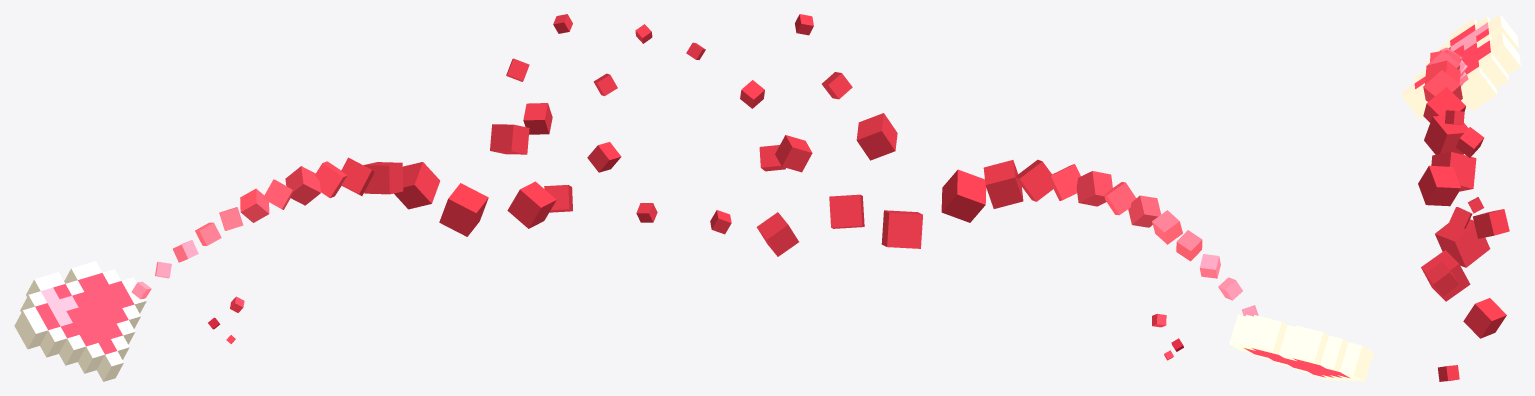
The model's file is fx_bloodletting.glb.
3 renders of one model, left to right at view 1: azimuth 30°, elevation 25°; view 2: azimuth 150°, elevation 25°; view 3: azimuth 270°, elevation 25°, orthographic. The views are drawn at different scales.
Parts seen in each view (by area): view 1: stream, heart_rim, heart_body, burst_cube_01, burst_cube_02, burst_cube_04, heart_highlight, burst_cube_05, burst_cube_03; view 2: stream, heart_rim, burst_cube_02, burst_cube_01, burst_cube_03, burst_cube_04, heart_body; view 3: stream, heart_rim, burst_cube_02, burst_cube_03, heart_body, burst_cube_01, burst_cube_04, burst_cube_05, burst_cube_06, heart_highlight, burst_cube_07, burst_cube_08 (+2 smaller).
Boxes of the visible parts, x1=… form: stream: x1=131, y1=157, x2=488, y2=299; heart_rim: x1=14, y1=261, x2=146, y2=381; heart_body: x1=35, y1=273, x2=134, y2=354; burst_cube_01: x1=507, y1=181, x2=556, y2=228; burst_cube_02: x1=490, y1=124, x2=529, y2=154; burst_cube_04: x1=523, y1=103, x2=552, y2=134; heart_highlight: x1=41, y1=287, x2=78, y2=326; burst_cube_05: x1=587, y1=142, x2=621, y2=172; burst_cube_03: x1=544, y1=185, x2=572, y2=212; stream: x1=881, y1=159, x2=1258, y2=316; heart_rim: x1=1229, y1=314, x2=1373, y2=381; burst_cube_02: x1=856, y1=113, x2=897, y2=160; burst_cube_01: x1=829, y1=194, x2=864, y2=228; burst_cube_03: x1=756, y1=212, x2=798, y2=256; burst_cube_04: x1=775, y1=135, x2=812, y2=172; heart_body: x1=1244, y1=348, x2=1350, y2=378; stream: x1=1423, y1=47, x2=1490, y2=267; heart_rim: x1=1402, y1=14, x2=1520, y2=119; burst_cube_02: x1=1418, y1=165, x2=1461, y2=206; burst_cube_03: x1=1463, y1=298, x2=1506, y2=338; heart_body: x1=1414, y1=24, x2=1490, y2=88; burst_cube_01: x1=1421, y1=250, x2=1470, y2=301; burst_cube_04: x1=1473, y1=209, x2=1509, y2=238; burst_cube_05: x1=1426, y1=261, x2=1459, y2=296; burst_cube_06: x1=1455, y1=127, x2=1484, y2=157; heart_highlight: x1=1450, y1=22, x2=1488, y2=51; burst_cube_07: x1=1449, y1=207, x2=1472, y2=228; burst_cube_08: x1=1438, y1=365, x2=1459, y2=381.
Size of the model in its own units: 12.44 by 4.61 by 1.95.
